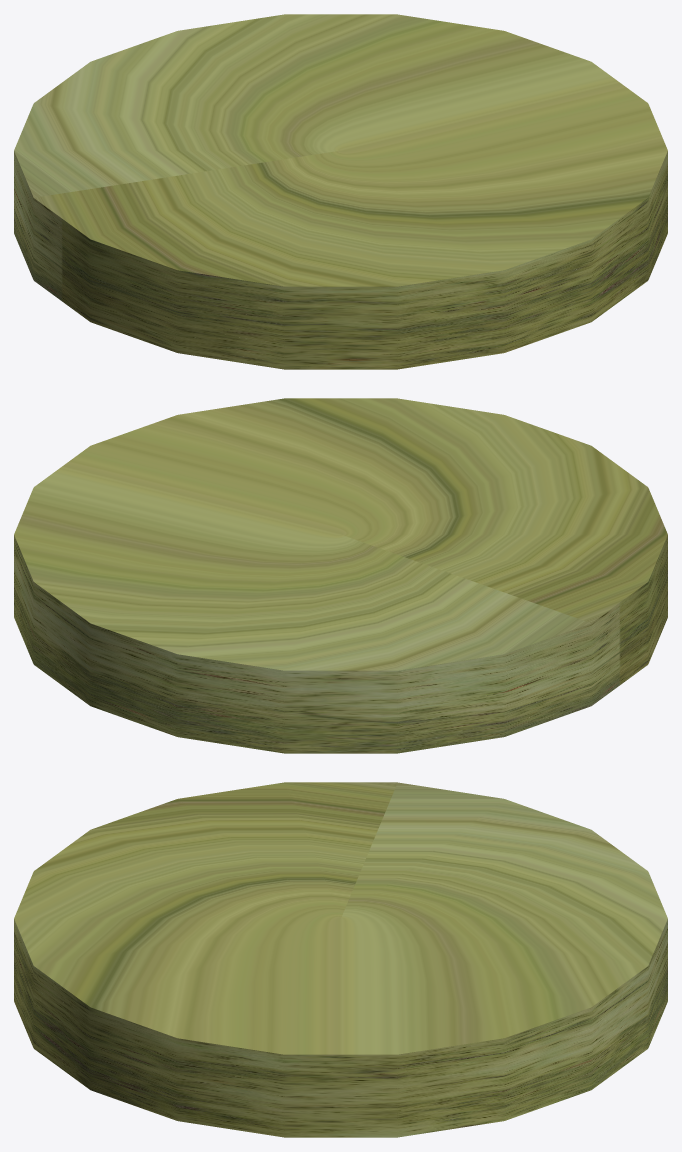
The model's file is ПлощадкаВращения.FBX.
The picture shows the model from 3 angles, top to bottom: view 1: azimuth 30°, elevation 25°; view 2: azimuth 150°, elevation 25°; view 3: azimuth 270°, elevation 25°; orthographic projection.
Parts seen in each view (by area): view 1: ПлощадкаВращения; view 2: ПлощадкаВращения; view 3: ПлощадкаВращения.
Part boxes in pixels (x1=…): ПлощадкаВращения: x1=14, y1=14, x2=667, y2=369; ПлощадкаВращения: x1=14, y1=398, x2=667, y2=753; ПлощадкаВращения: x1=14, y1=782, x2=667, y2=1137.
Bounding box in the file's own units: 2.25 × 0.3196 × 2.29.
